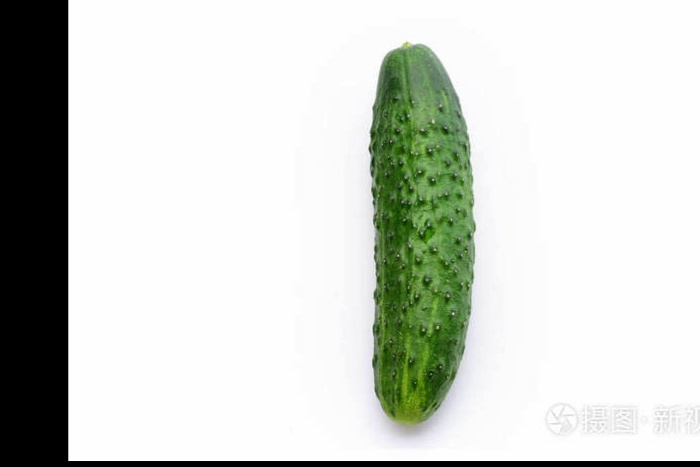cucumber: (365, 41, 471, 428)
